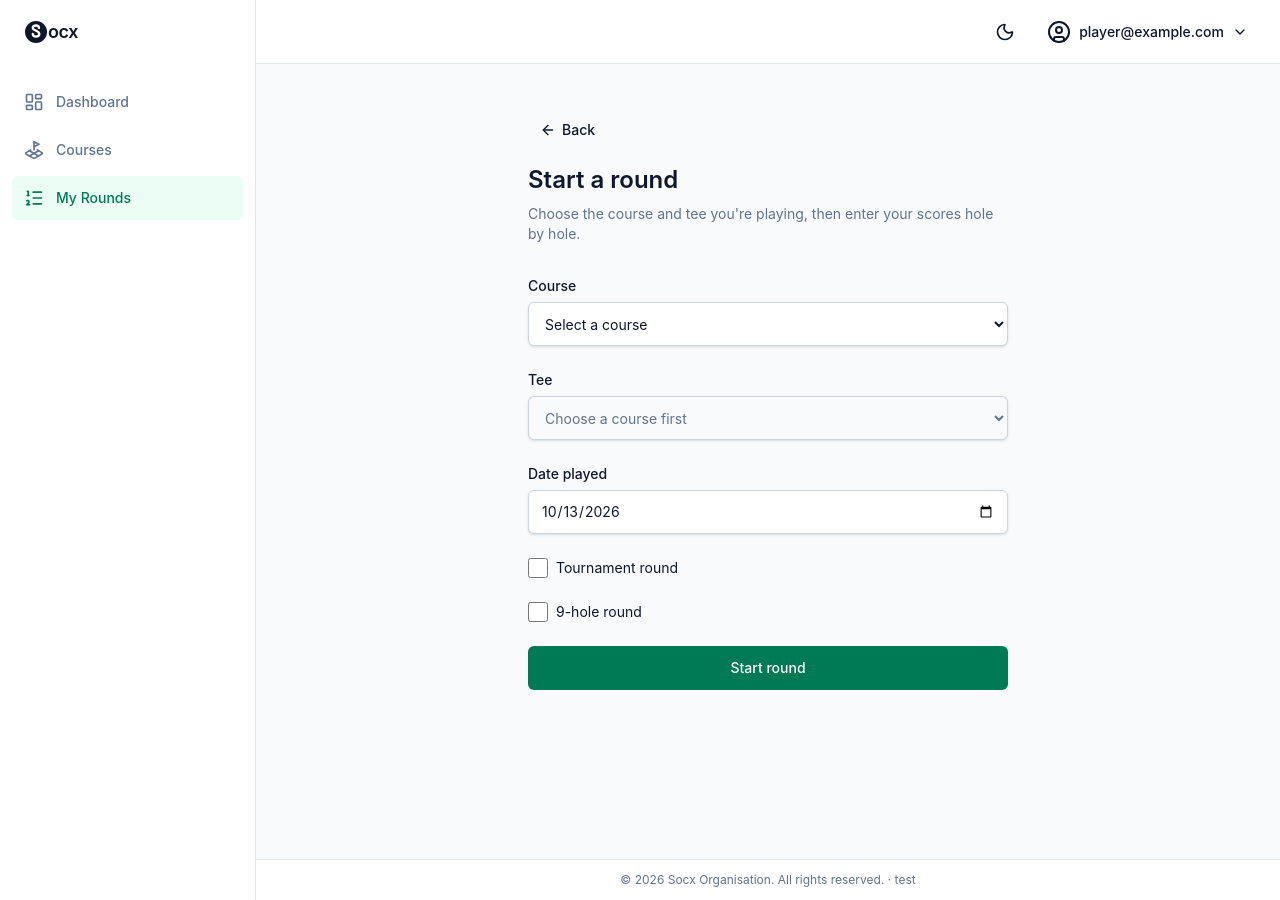
NewRoundPage › shows a server error without navigating away
Step 1. Select "Test Links" in the dropdown labelled "Course" → (768,324), box left=528, top=302, right=1008, bottom=346
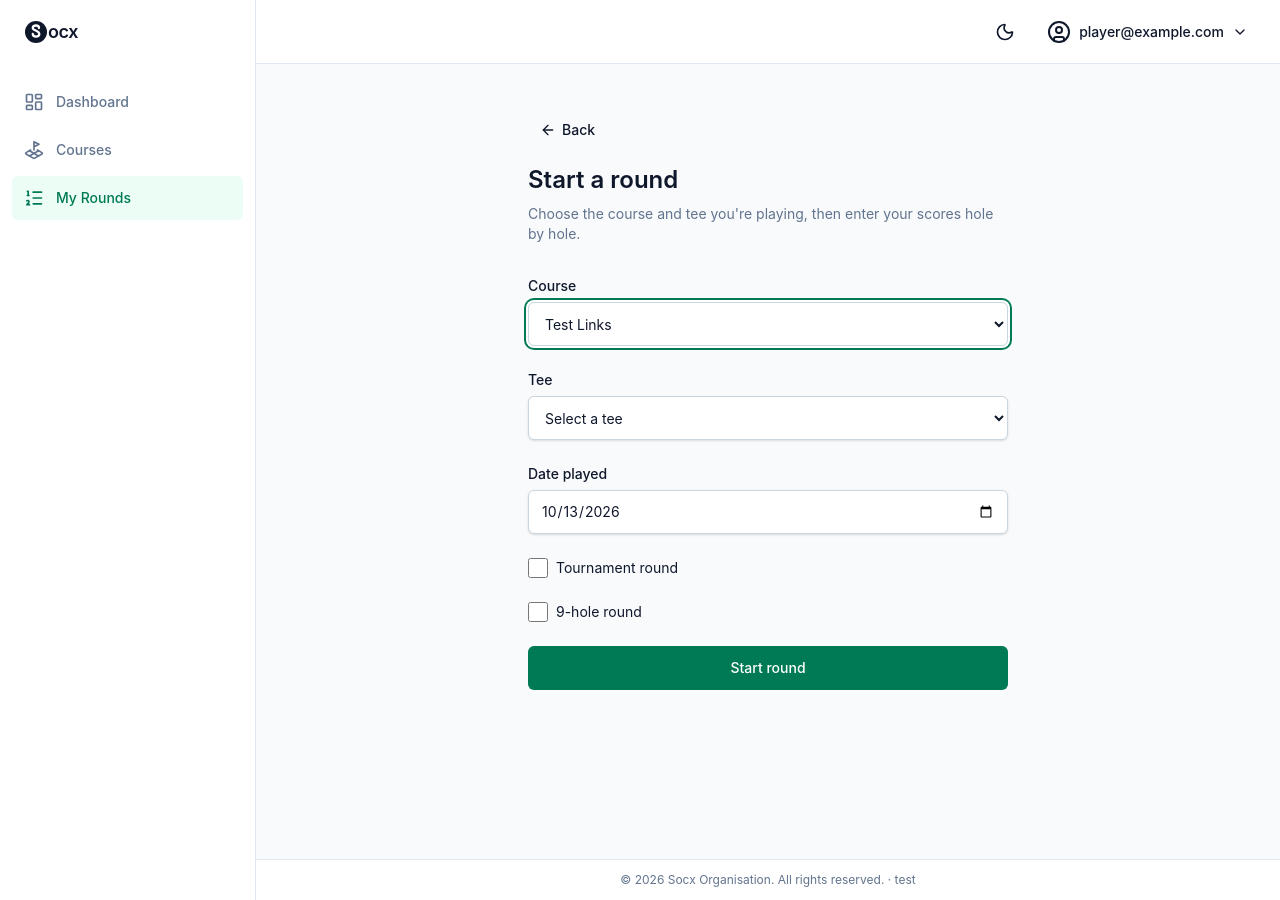
Expected: the dropdown labelled "Tee" is enabled
Step 2. Select "White (18 holes)" in the dropdown labelled "Tee" → (768,418), box left=528, top=396, right=1008, bottom=440
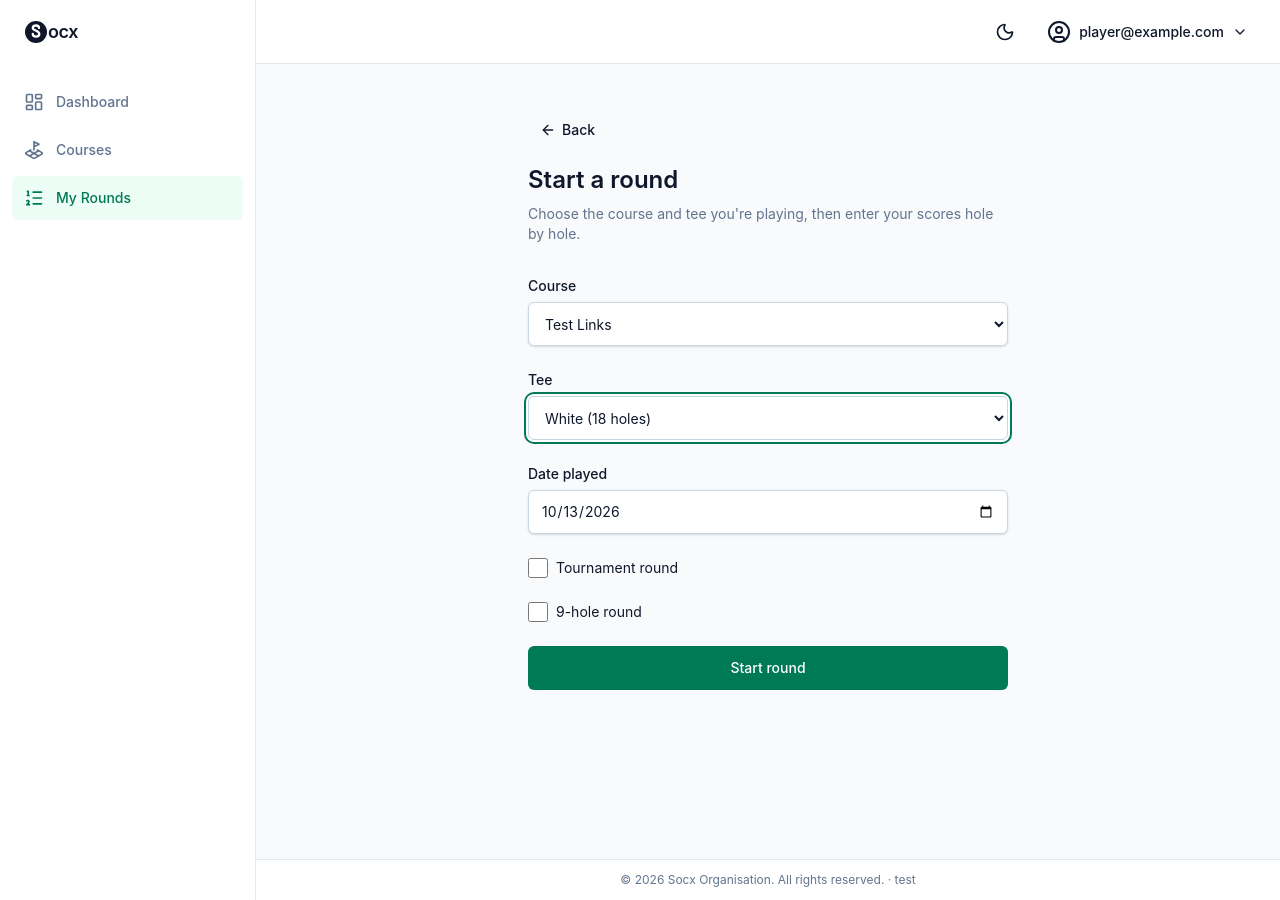
Step 3. Click the button "Start round" → (768,668), box left=528, top=646, right=1008, bottom=690
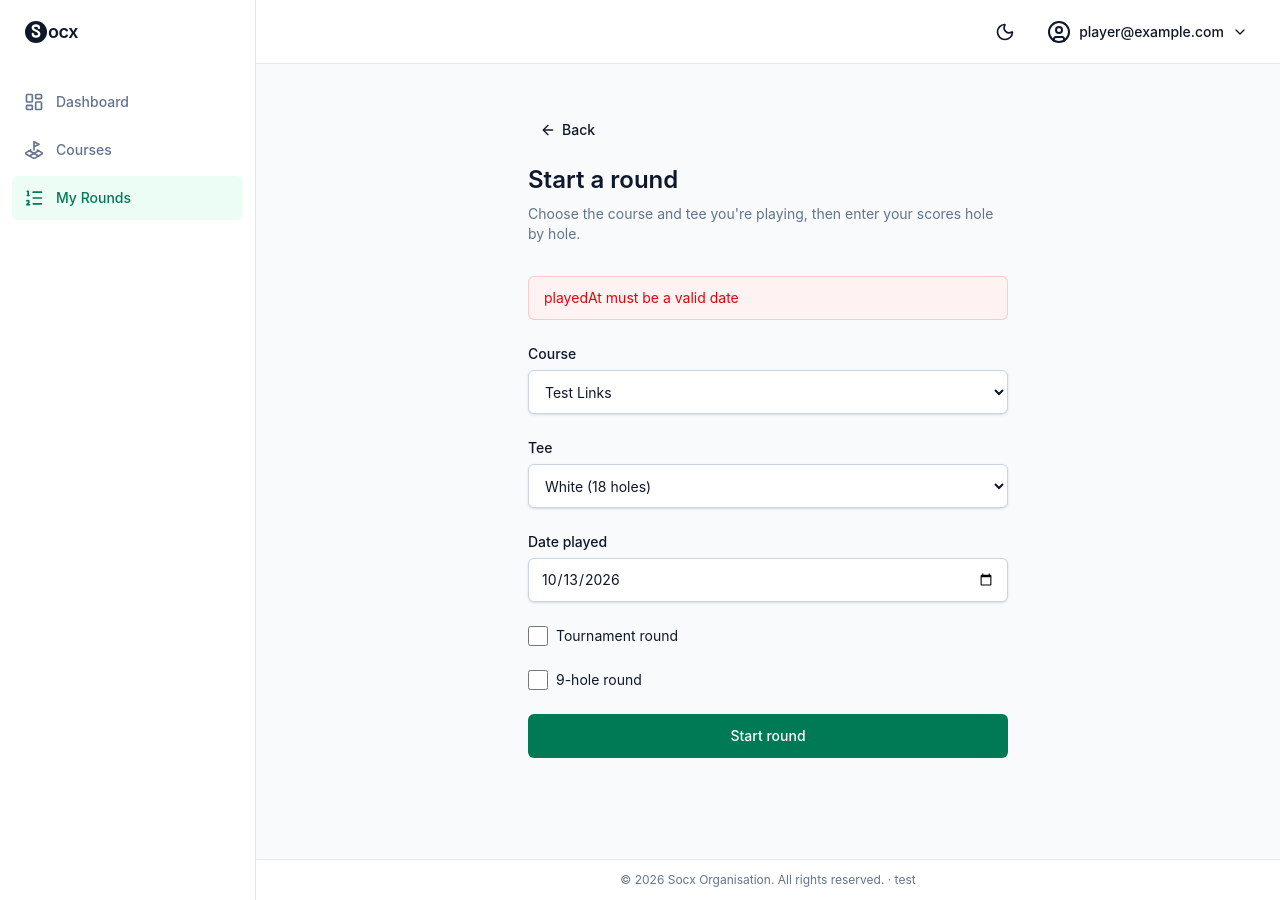
Expected: the heading "Start a round" is shown, left=528, top=165, right=678, bottom=194
Expected: the message reads "playedAt must be a valid date", left=544, top=289, right=739, bottom=306
